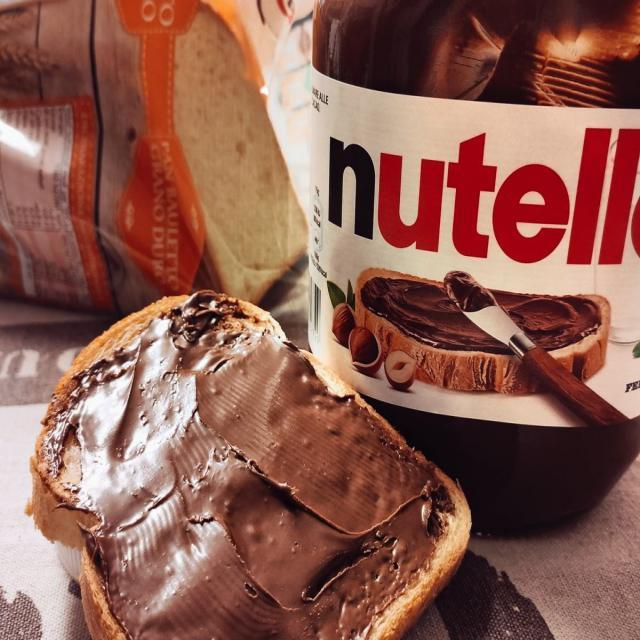Spread: (54, 314, 445, 640)
